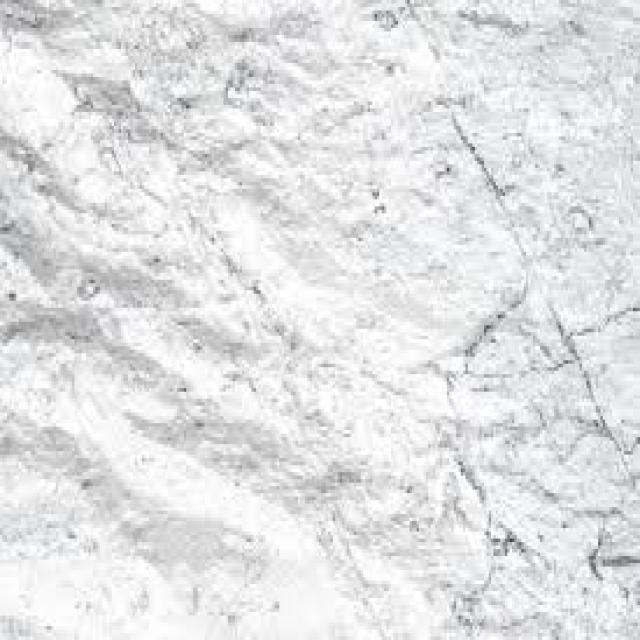Metamorphic: (2, 7, 633, 630)
